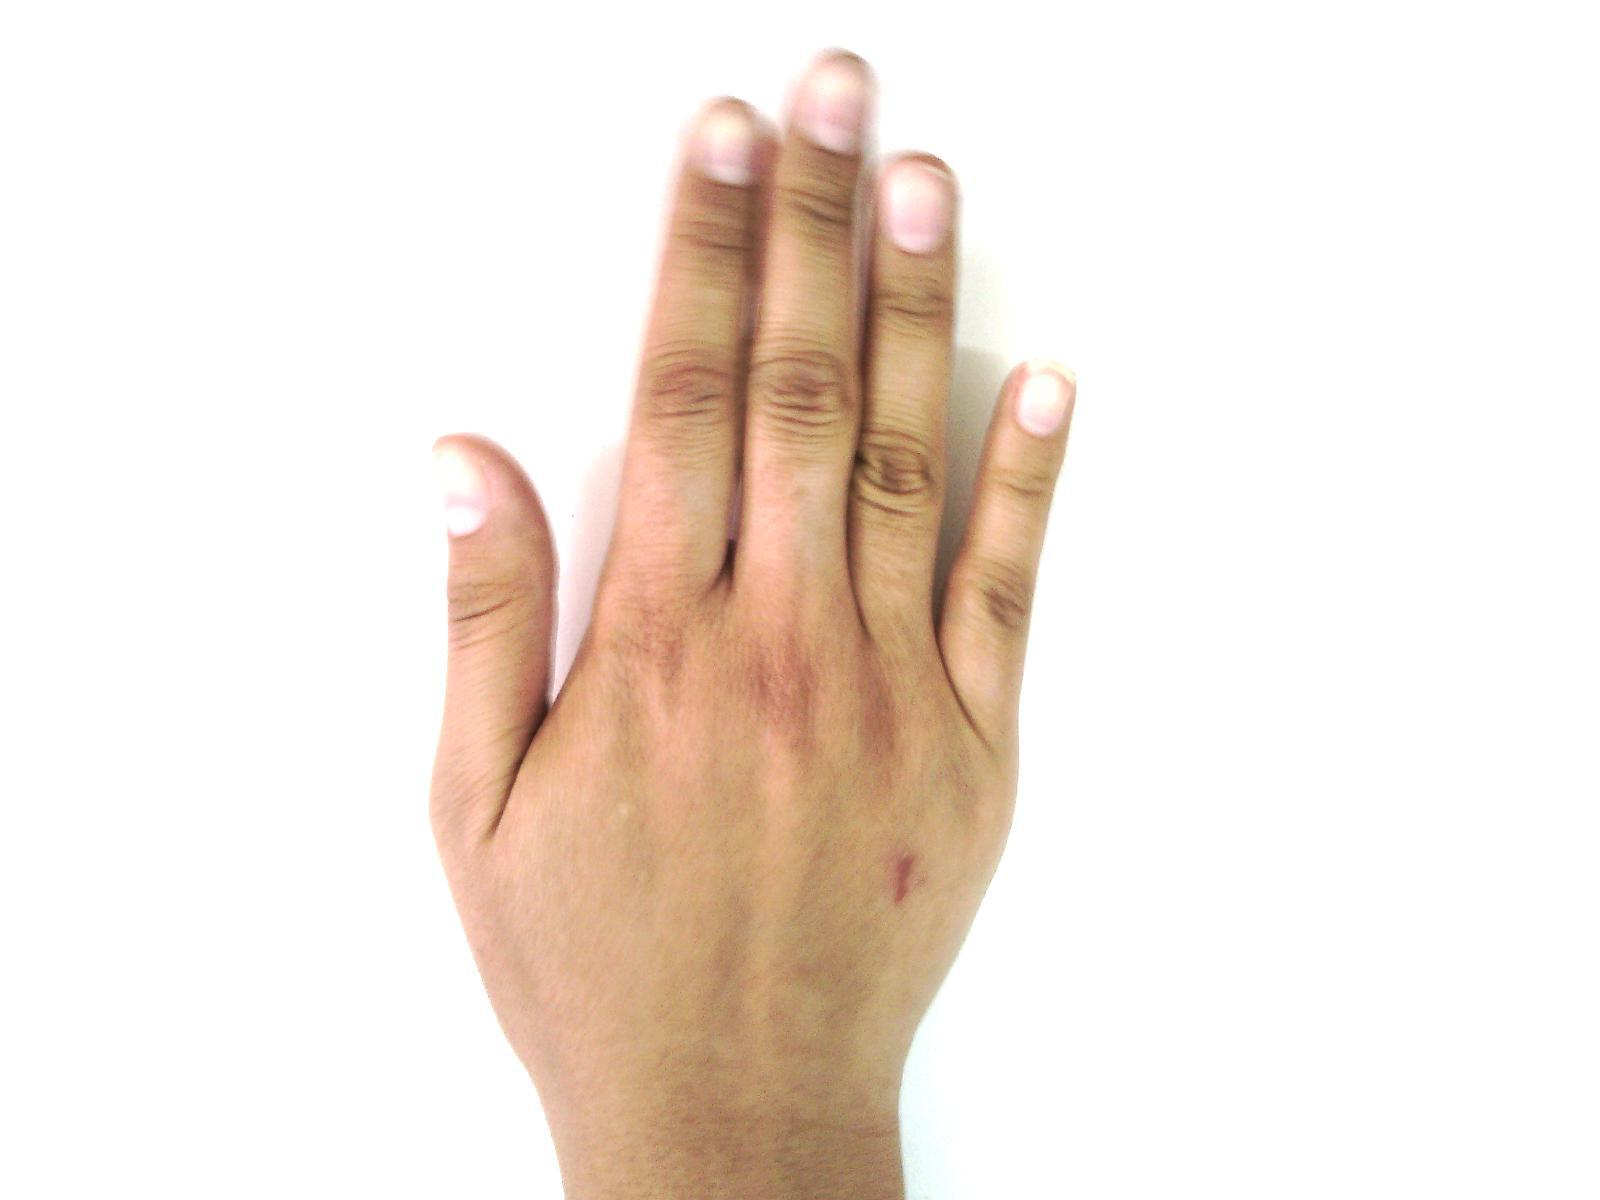hand: (425, 47, 1080, 1127)
